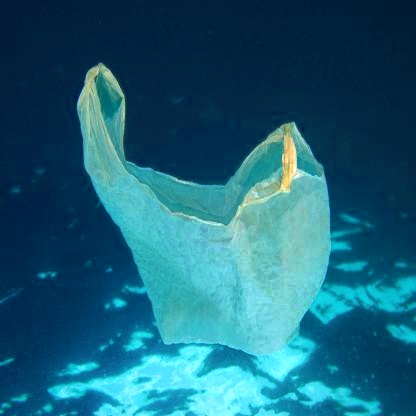pbag: (75, 61, 332, 358)
